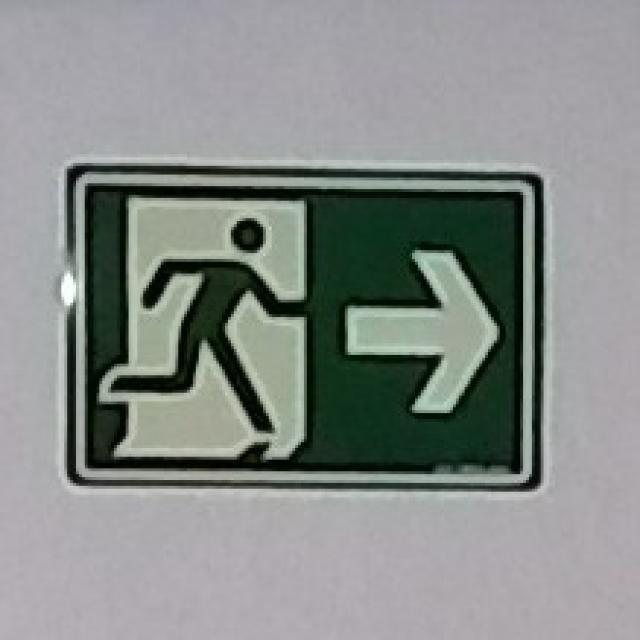exit_sign: (52, 145, 579, 499)
